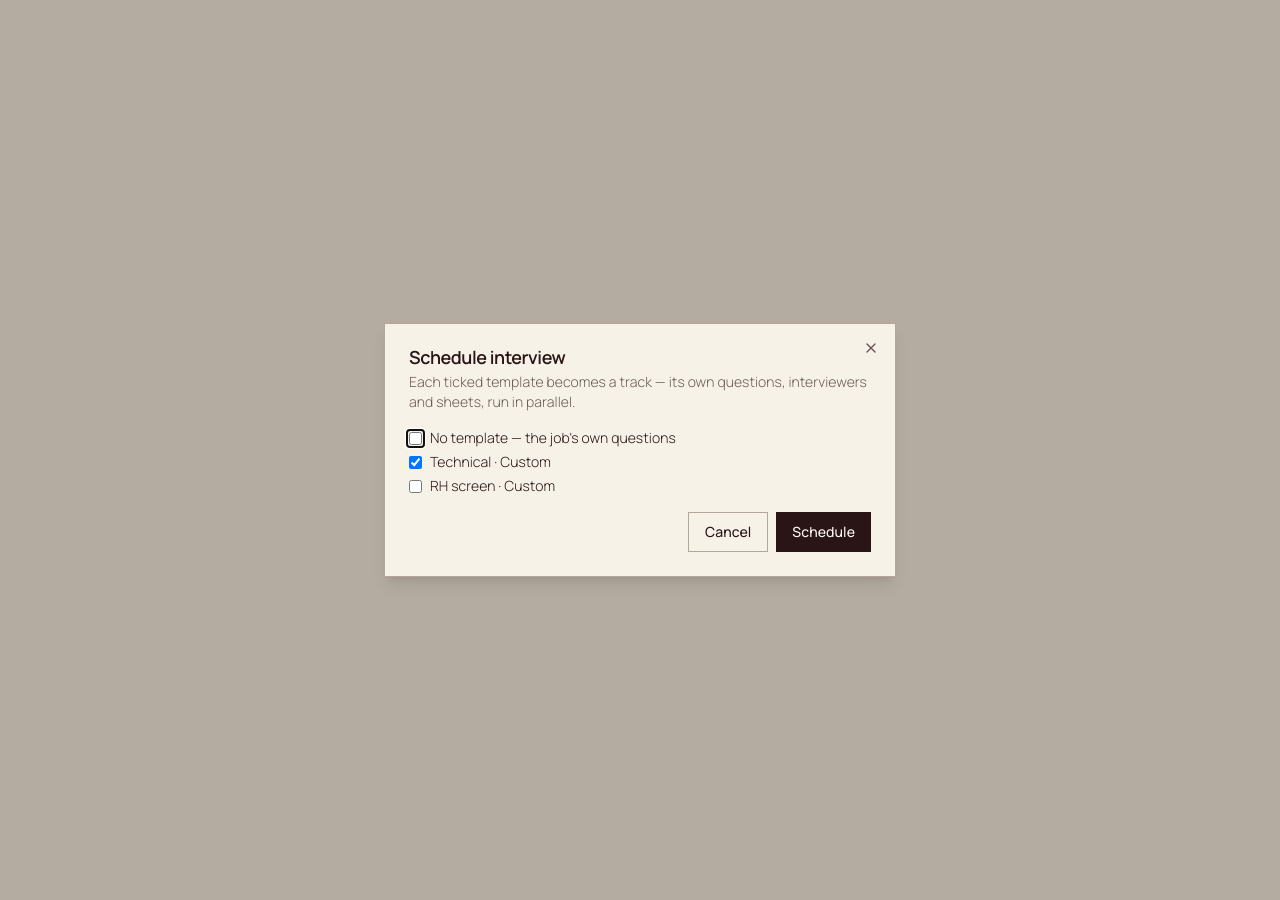
ScheduleRoundDialog › cannot schedule with nothing ticked
The image size is (1280, 900).
Click the checkbox labelled "Technical · Custom" at [416, 462], box [409,456,422,468]
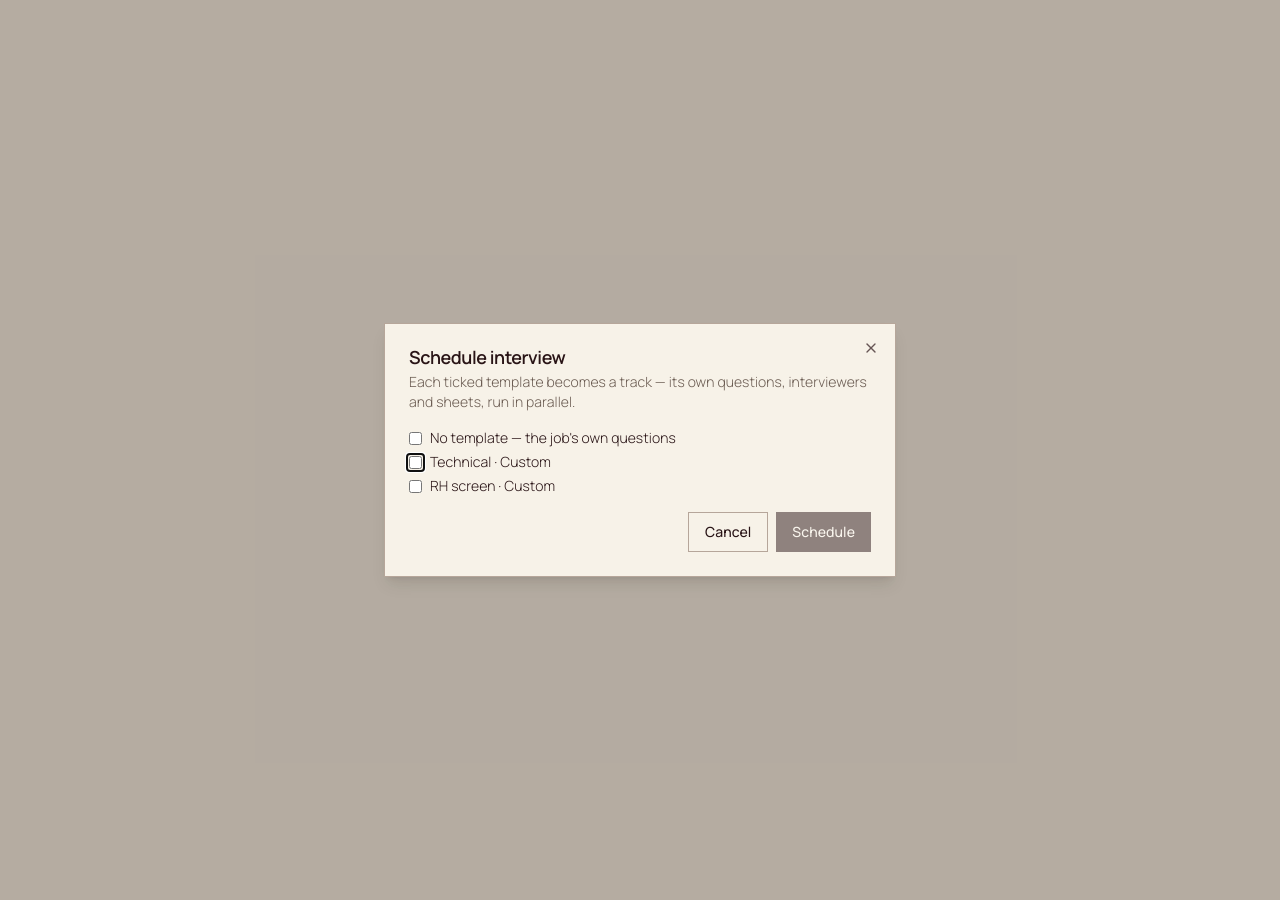
expect the button "Schedule" is disabled: met, box [776,512,871,552]
